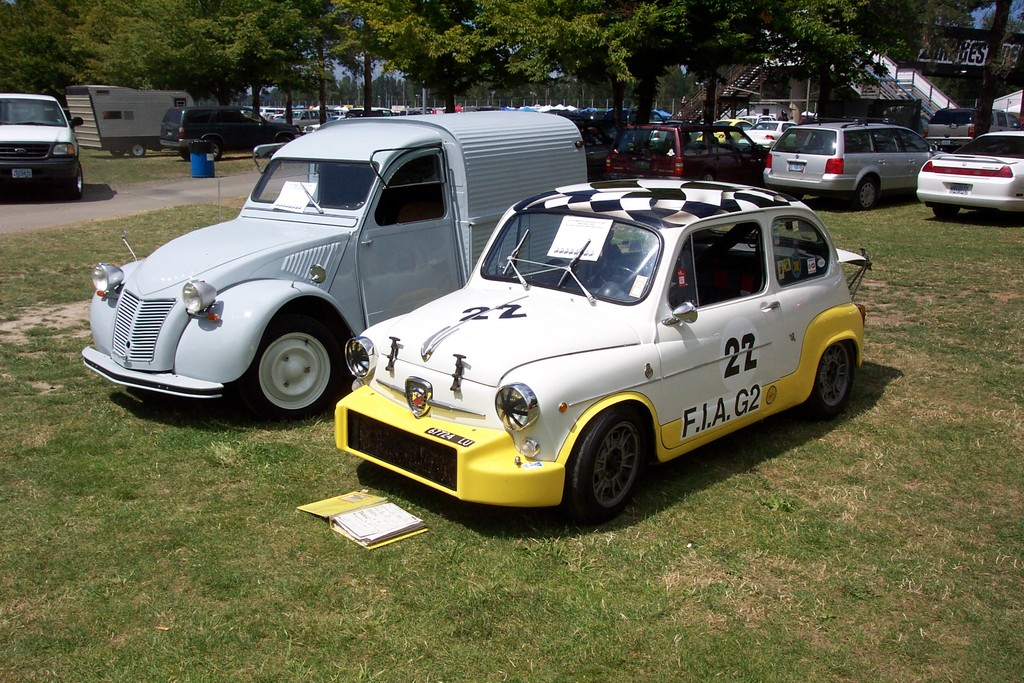mobil: (376, 188, 922, 512), (107, 127, 441, 387), (763, 118, 940, 201)
